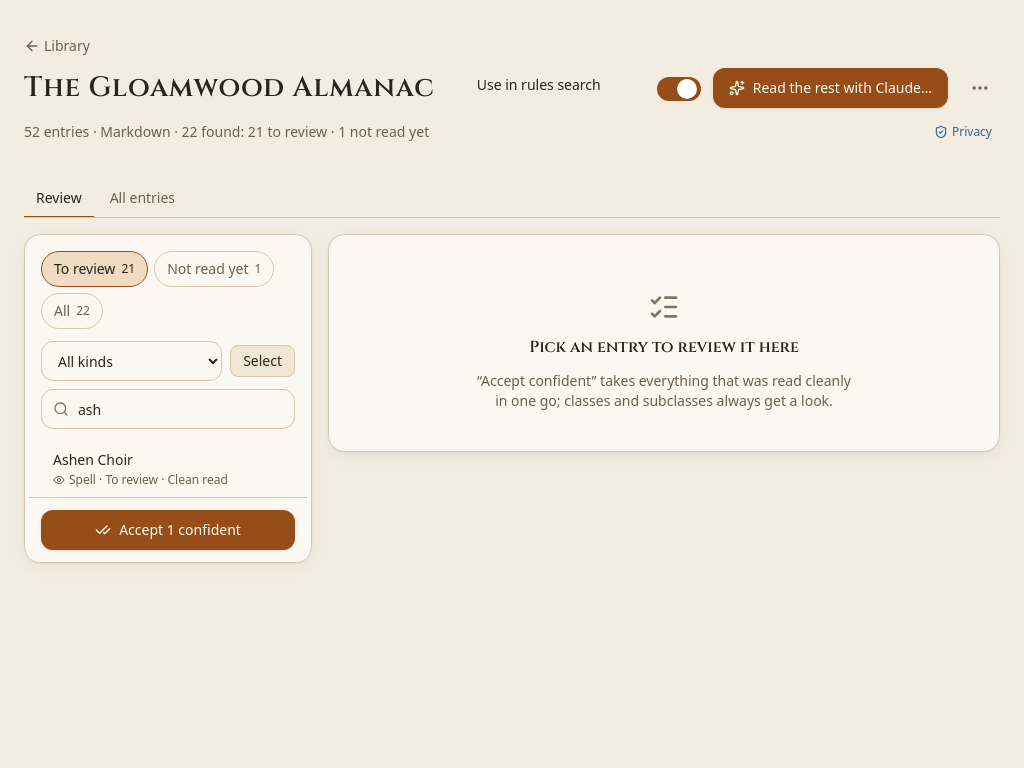
Test case: the review list › U3: "Accept N confident" accepts exactly the entries its sheet lists (the name search and kind apply)
Click the button "Accept 1 confident". click: coordinates (168, 530)
box: [41,510,295,550]
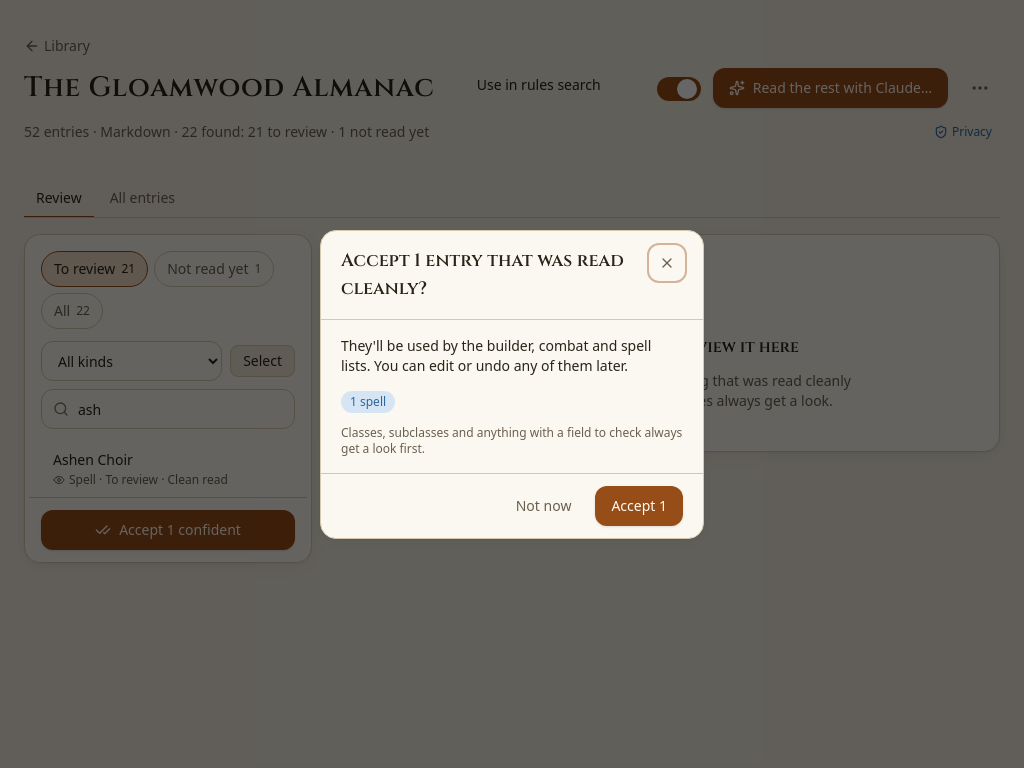
Check: the text "1 spell" is shown, box [341,390,395,412]
Click the button "Accept 1". click: coordinates (639, 506)
box: [595,486,683,526]
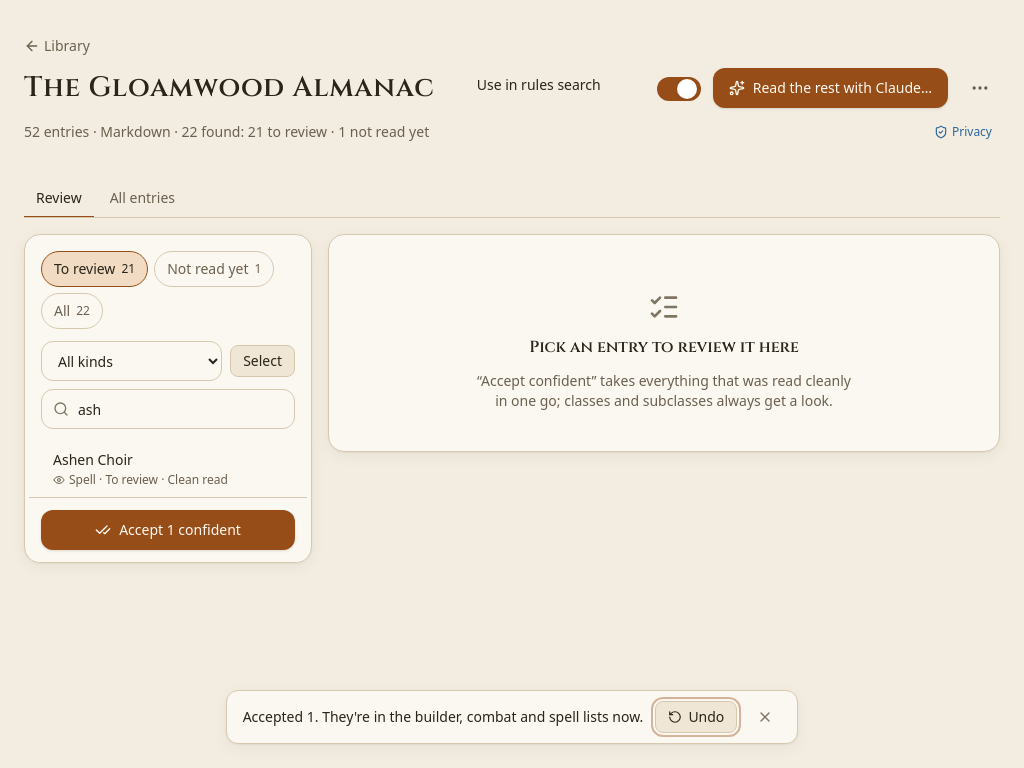
Check: the text "Accepted 1." is shown, box [243,707,643,726]
